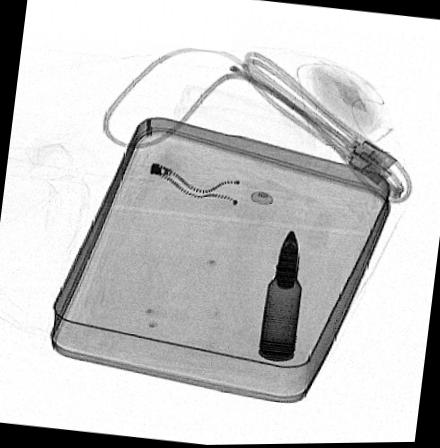Bullet: (256, 228, 302, 361)
